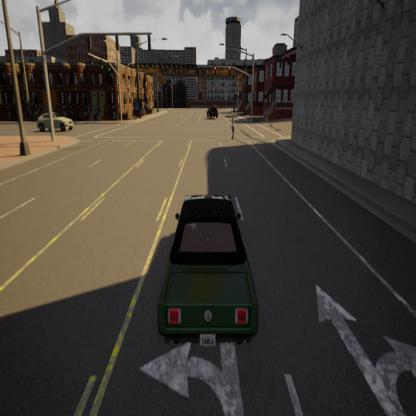Cars: (152, 186, 267, 360), (36, 108, 76, 138), (205, 102, 220, 123)
Pedestrian: (226, 108, 242, 144)
